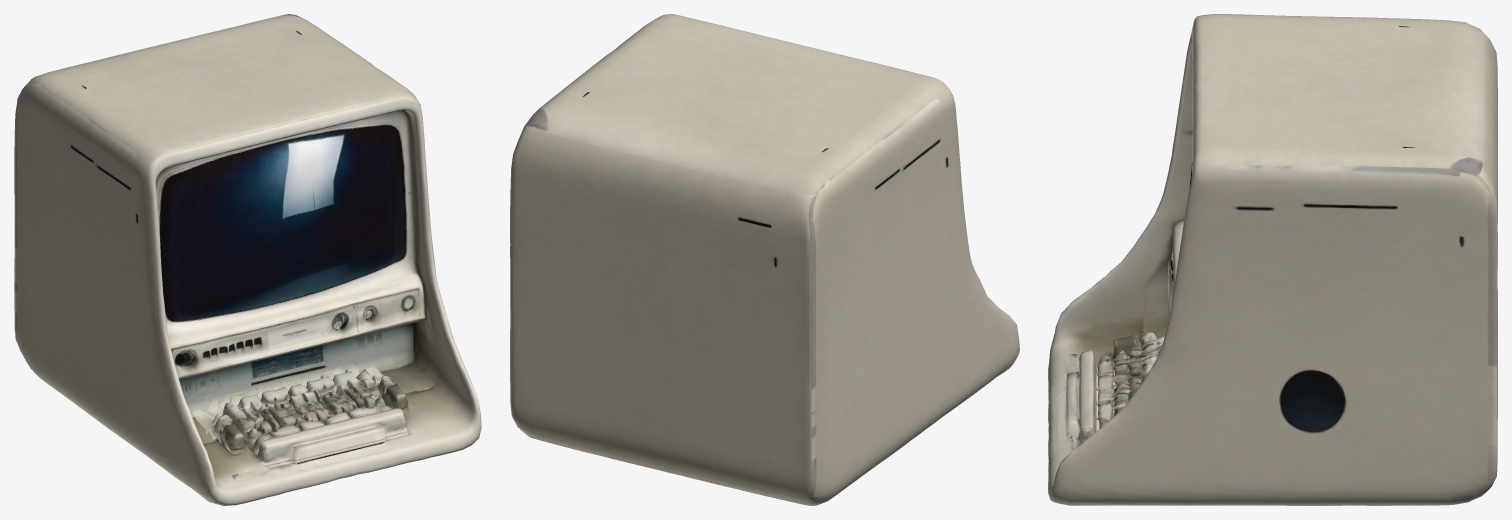
File: meshy_2_1780590664152.glb
The picture shows the model from 3 angles, left to right: view 1: azimuth 30°, elevation 25°; view 2: azimuth 150°, elevation 25°; view 3: azimuth 270°, elevation 25°; orthographic projection. The views are drawn at different scales.
Bounding box in the file's own units: 1.63 × 1.74 × 2.
Materials: 1 (1 with a texture image).
